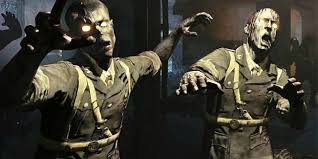zombie: (74, 9, 117, 58), (250, 10, 281, 50)
